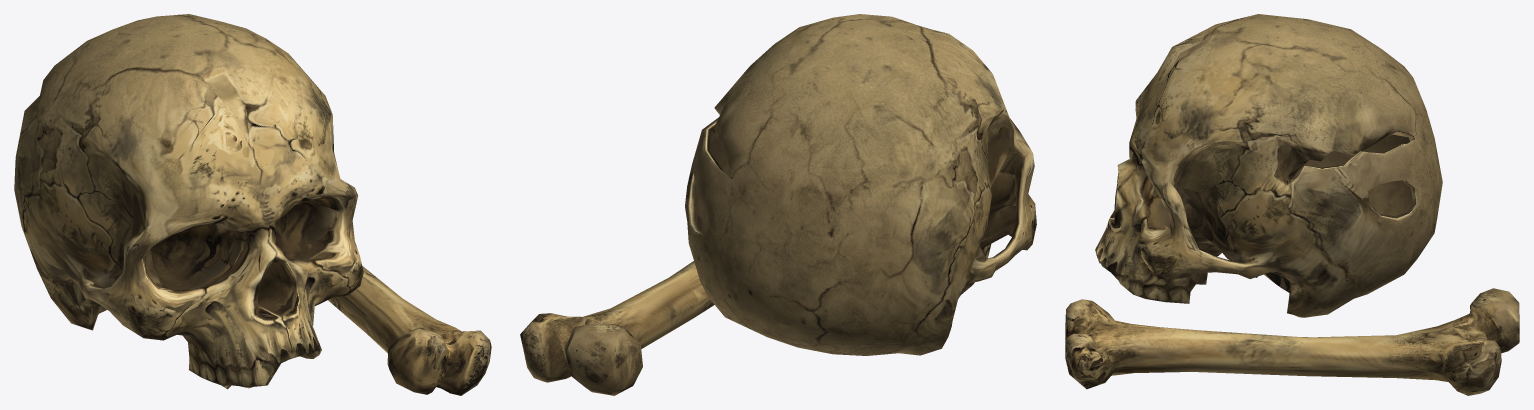
3 renders of one model, left to right at view 1: azimuth 30°, elevation 25°; view 2: azimuth 150°, elevation 25°; view 3: azimuth 270°, elevation 25°, orthographic. The views are drawn at different scales.
Size of the model in its own units: 0.7989 by 0.6897 by 1.
Materials: 1 (1 with a texture image).
